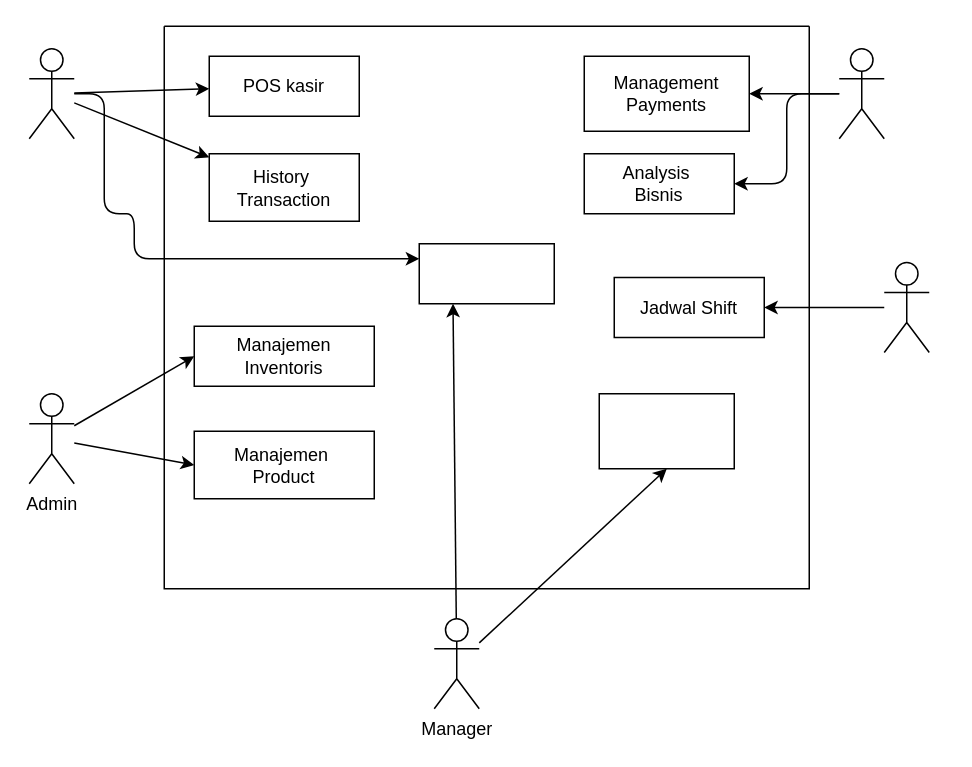
This 972x767 diagram has some shape labels left out. The shapes that lost their labels are listed below. From the top down, each one's centre as x and y in pixels, then its label:
At pixel 51 93: "Kasir".
At pixel 861 93: "Owner".
At pixel 486 273: "Report Transaction".
At pixel 906 306: "Karyawan".
At pixel 666 430: "Report Sales".
